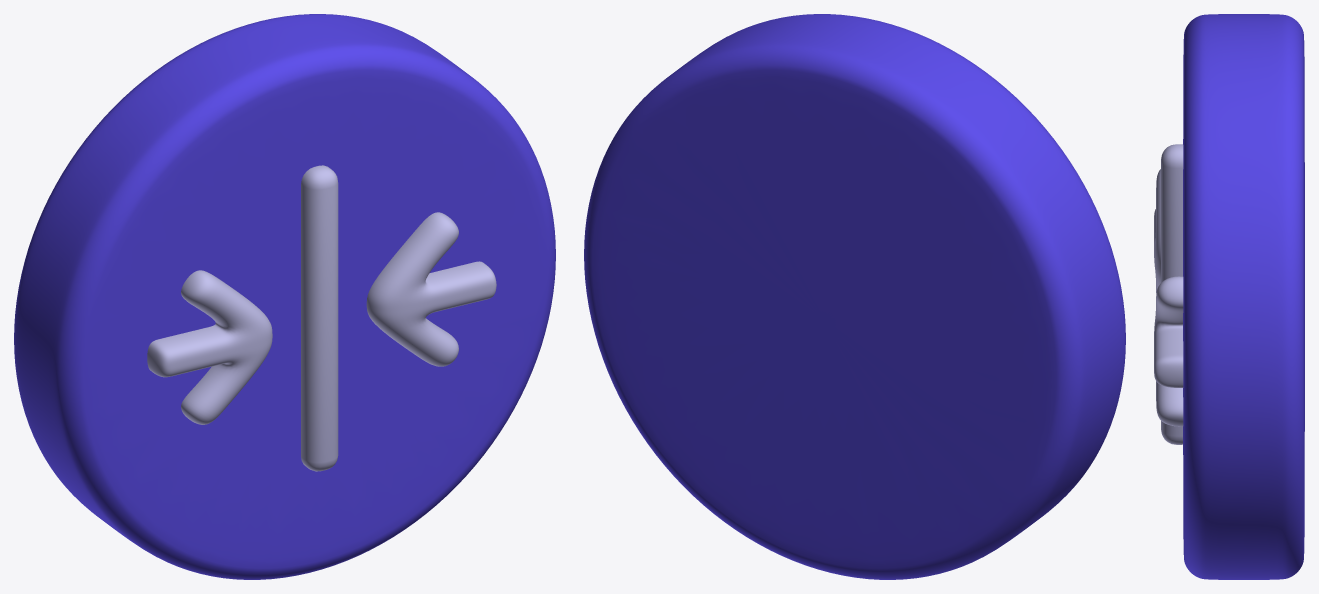
The model's file is resize-animated-3d-icon-1715795717189.glb.
The picture shows the model from 3 angles, left to right: view 1: azimuth 30°, elevation 25°; view 2: azimuth 150°, elevation 25°; view 3: azimuth 270°, elevation 25°; orthographic projection.
Parts seen in each view (by area): view 1: Base.002, Cube, Arrow Base.001, Arrow Base.002; view 2: Base.002; view 3: Base.002, Arrow Base.001, Cube, Arrow Base.002.
Part boxes in pixels (box(x1,y1,x2,y2)): Base.002: box(14, 14, 555, 579); Cube: box(301, 165, 338, 471); Arrow Base.001: box(366, 212, 496, 366); Arrow Base.002: box(147, 270, 272, 424); Base.002: box(584, 14, 1125, 579); Base.002: box(1183, 14, 1304, 579); Arrow Base.001: box(1154, 276, 1183, 426); Cube: box(1161, 144, 1183, 444); Arrow Base.002: box(1154, 169, 1160, 292).
Size of the model in its own units: 1.99 by 1.99 by 0.5297.
